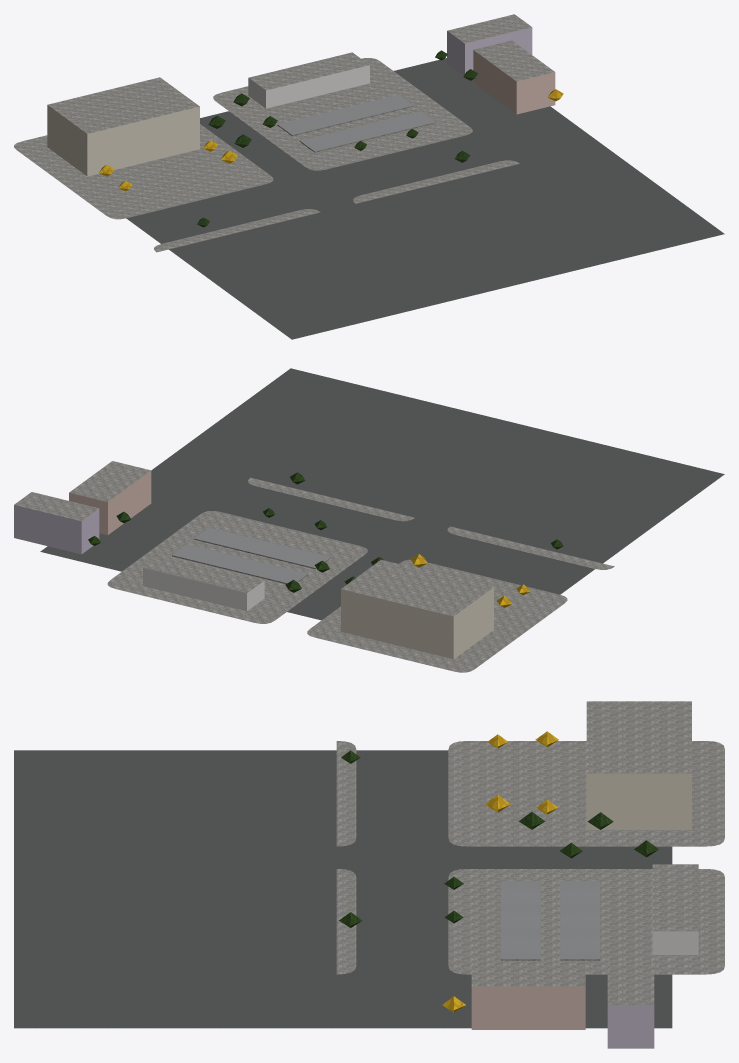
Rendered from cidade_S04_05_lod.gltf.
3 renders of one model, top to bottom at view 1: azimuth 30°, elevation 25°; view 2: azimuth 150°, elevation 25°; view 3: azimuth 270°, elevation 25°, orthographic. The views are drawn at different scales.
Parts seen in each view (by area): view 1: S04_05_Chao_LOD2, S04_05_Edificios_LOD1, S04_05_Vegetacao_LOD2; view 2: S04_05_Chao_LOD2, S04_05_Edificios_LOD1, S04_05_Vegetacao_LOD2; view 3: S04_05_Chao_LOD2, S04_05_Edificios_LOD1, S04_05_Vegetacao_LOD2.
Part boxes in pixels (bbox=[...]): S04_05_Chao_LOD2: bbox=[14, 58, 724, 339]; S04_05_Edificios_LOD1: bbox=[47, 14, 555, 176]; S04_05_Vegetacao_LOD2: bbox=[99, 50, 563, 227]; S04_05_Chao_LOD2: bbox=[40, 368, 724, 672]; S04_05_Edificios_LOD1: bbox=[14, 461, 493, 659]; S04_05_Vegetacao_LOD2: bbox=[88, 472, 563, 607]; S04_05_Chao_LOD2: bbox=[14, 741, 724, 1028]; S04_05_Edificios_LOD1: bbox=[471, 701, 698, 1048]; S04_05_Vegetacao_LOD2: bbox=[339, 731, 658, 1012].
Bounding box in the file's own units: 111 × 9.57 × 108.
9 materials, 9 textured.
